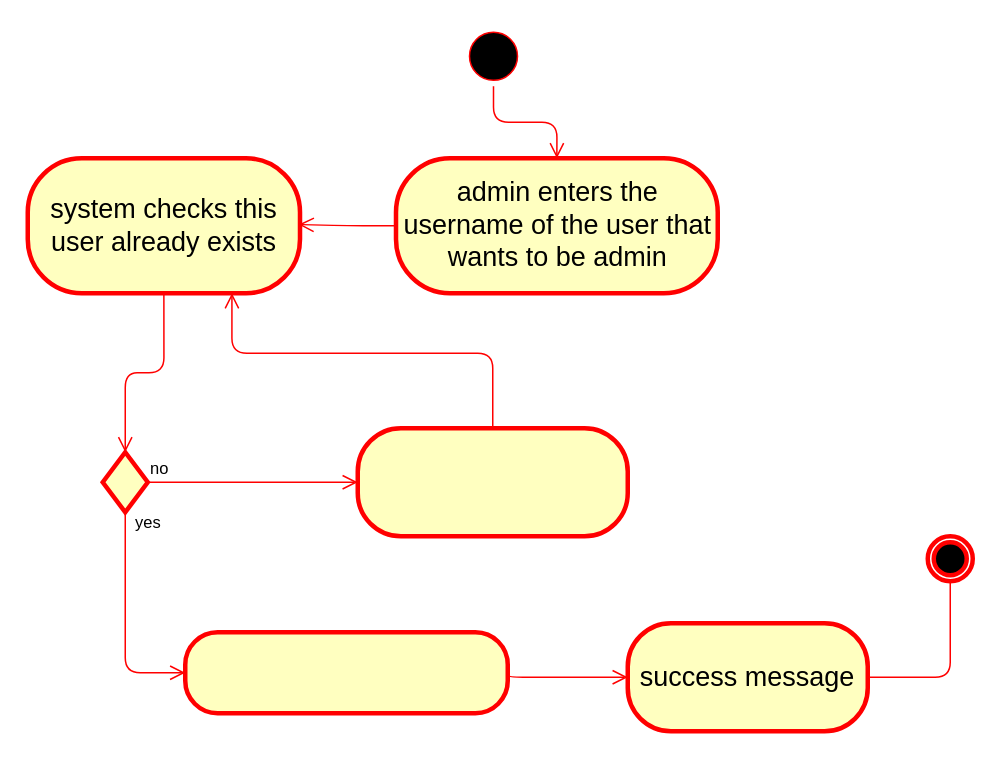
Some shapes in this 1001 by 759 pixel diagram are drawn without their labels. Each missing label, with the box of its shape:
error message of "there is not such user": (355, 425, 629, 538)
the user is an admin now: (182, 629, 509, 715)
